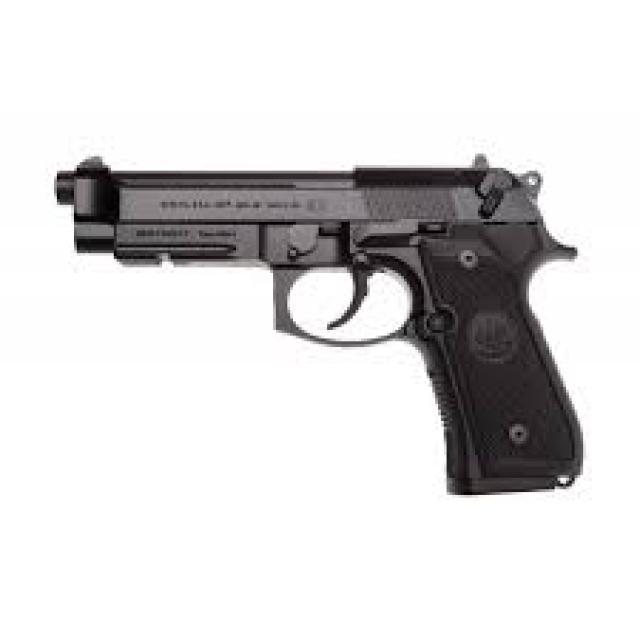pistol: (52, 150, 596, 503)
